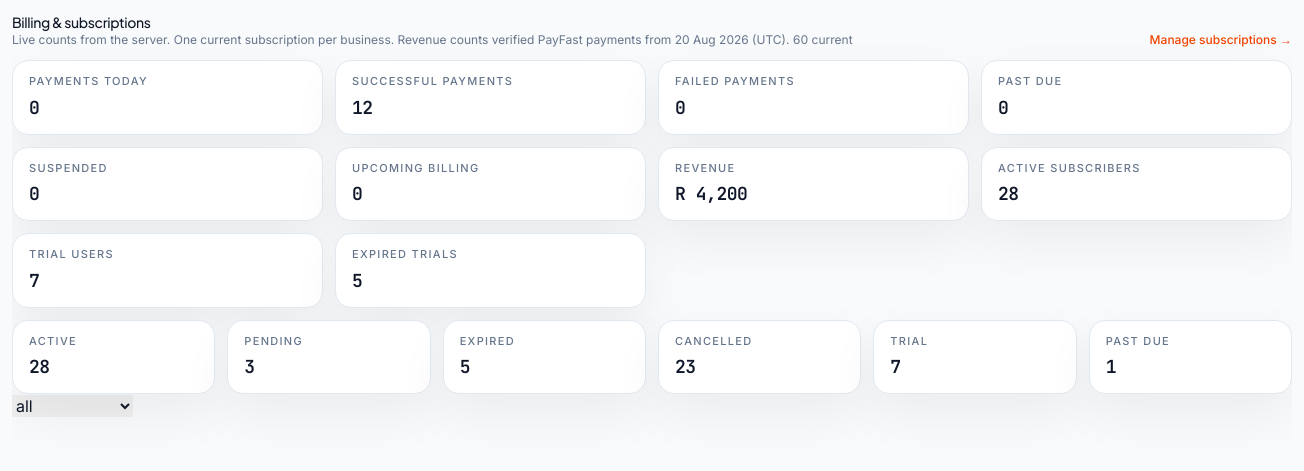
cards drive the shared filter state › clicking the applied card again clears back to All Status
Click the button "Active Subscribers 28" at (1069, 168), box [981,146,1292,221]
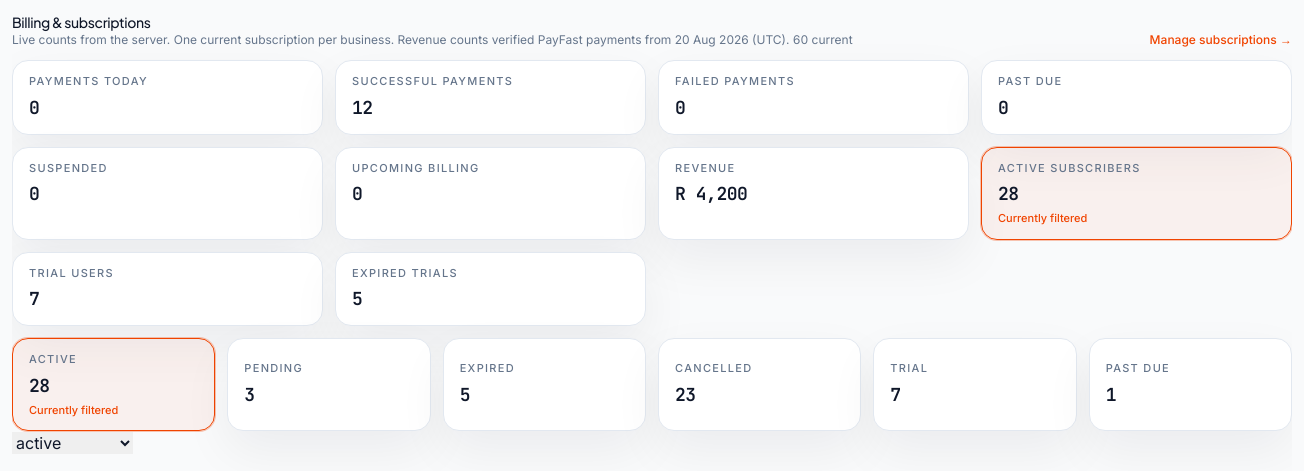
expect the dropdown with test id "status-dropdown" shows "active": met, box [12,432,133,454]
Click the button "Active Subscribers 28 Currently filtered" at (1069, 168), box [981,146,1292,240]
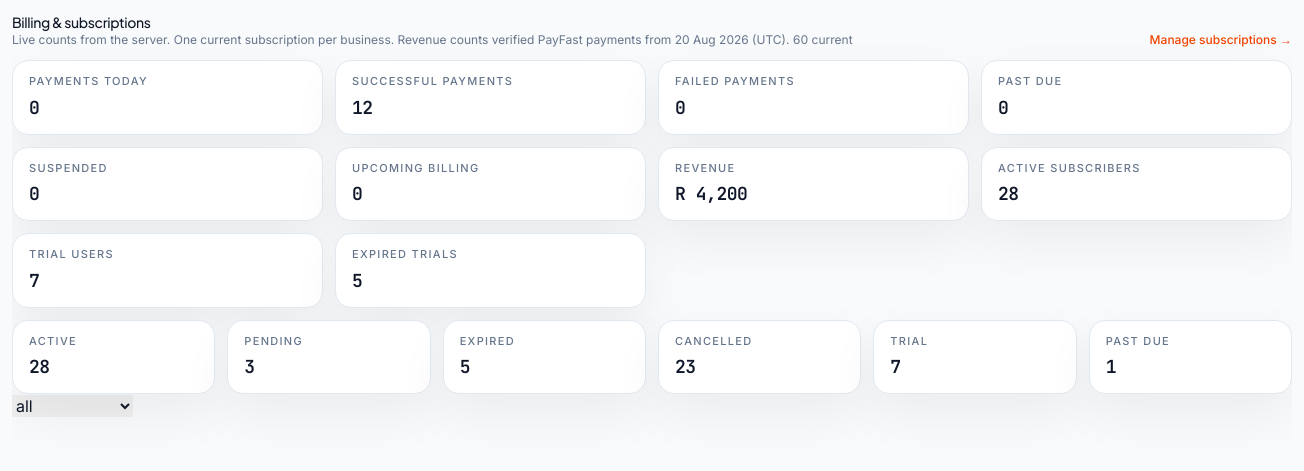
expect the dropdown with test id "status-dropdown" shows "all": met, box [12,395,133,417]
